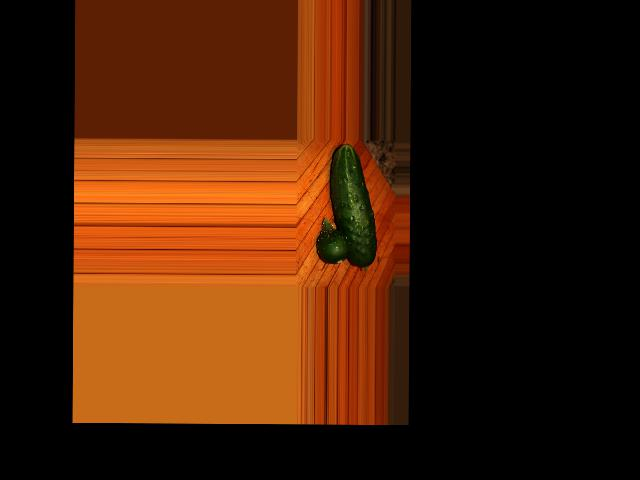cucumber: (329, 143, 377, 267)
